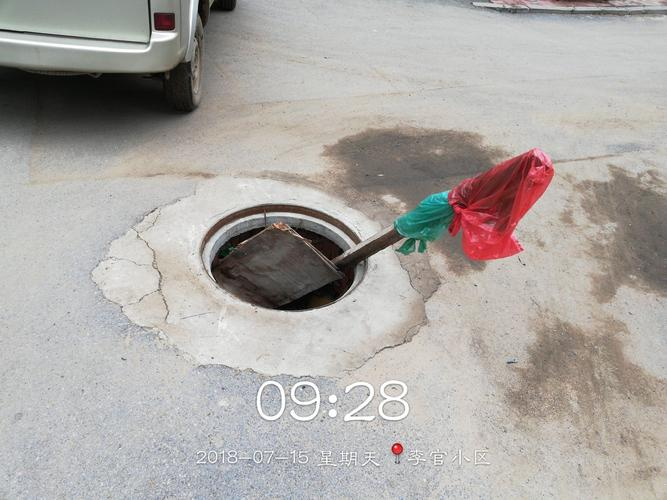lose: (170, 190, 385, 326)
